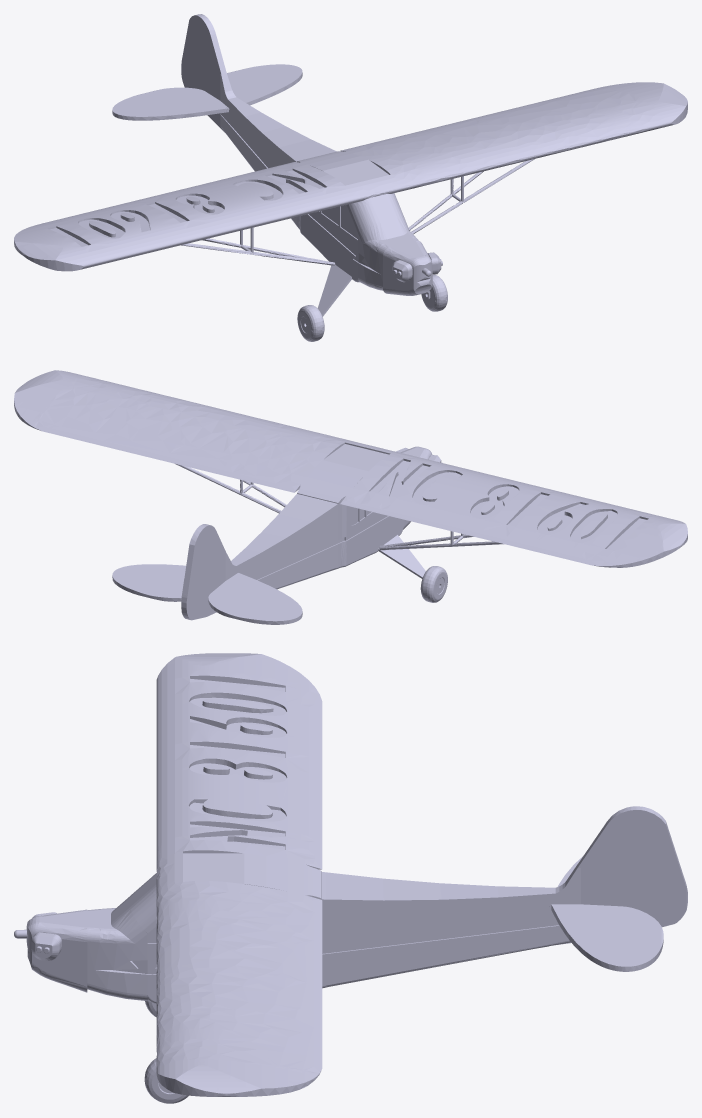
File: cub_mesh.dae
3 renders of one model, top to bottom at view 1: azimuth 30°, elevation 25°; view 2: azimuth 150°, elevation 25°; view 3: azimuth 270°, elevation 25°, orthographic. The views are drawn at different scales.
Visible parts, largest first — view 1: node0; view 2: node0; view 3: node0.
Boxes of the visible parts, x1,y1,x2,y2 form: node0: [14, 14, 687, 341]; node0: [14, 370, 687, 624]; node0: [14, 653, 687, 1103].
Bounding box in the file's own units: 0.1857 × 0.1201 × 0.0497.
